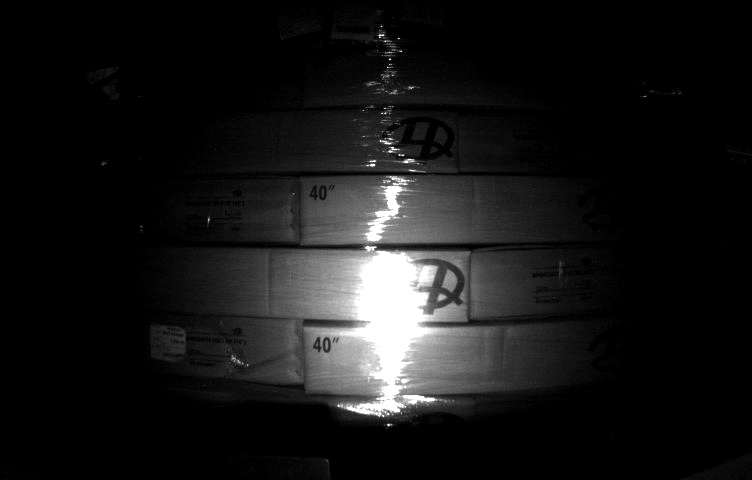True Barcode: (148, 323, 186, 363)
